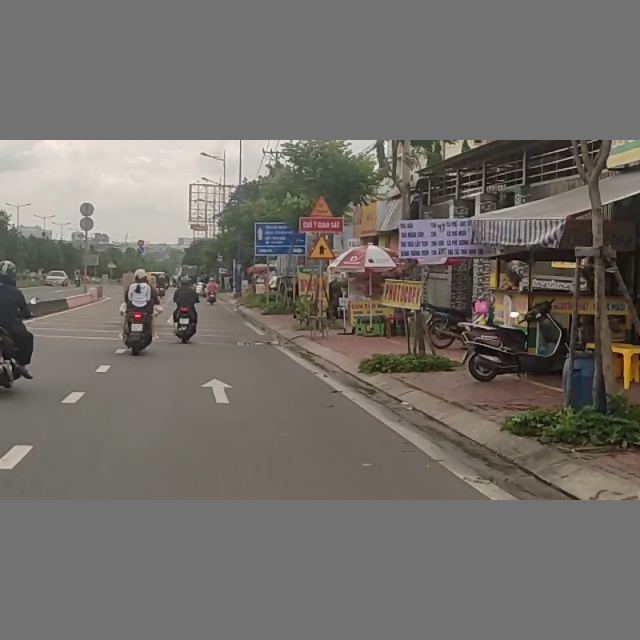W.207: (307, 234, 336, 260)
